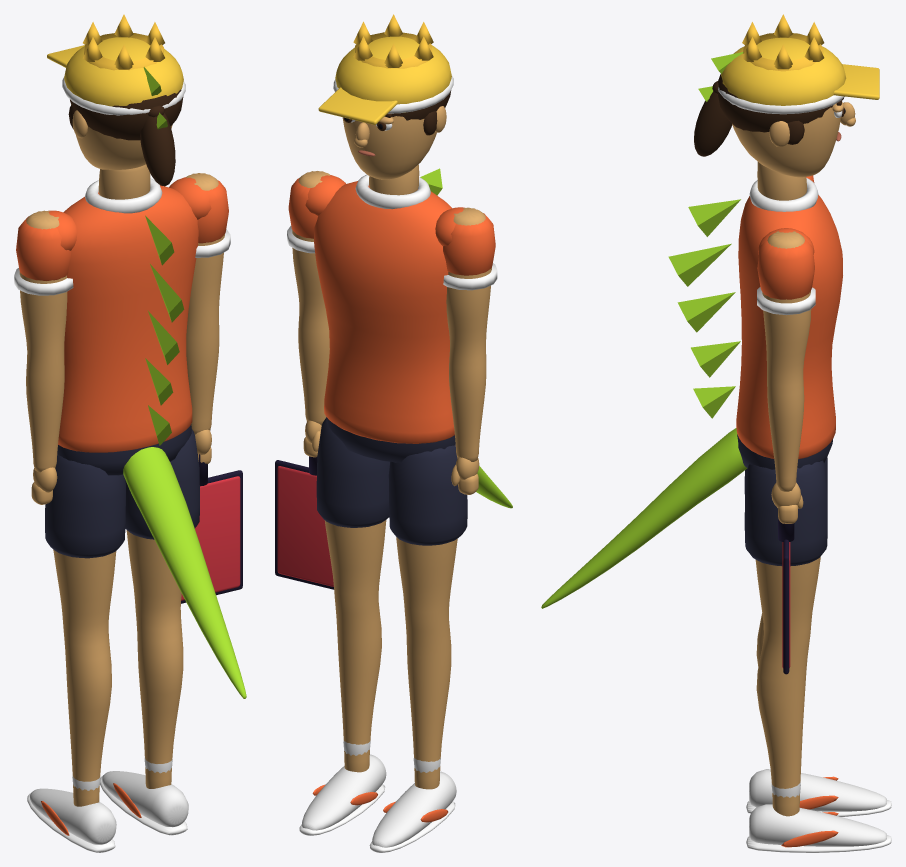
File: player.glb
3 views of the same model, side by side, from view 1: azimuth 30°, elevation 25°; view 2: azimuth 150°, elevation 25°; view 3: azimuth 270°, elevation 25° (orthographic). The views are drawn at different scales.
Visible parts, largest first — view 1: ol_torso, ol_leg_L, ol_leg_R, ol_tail, ol_arm_L, ol_shortleg_L, ol_arm_R, ol_cap, ol_paddle_face, ol_shoe_L, ol_shoe_R, ol_sleeve_L (+22 smaller); view 2: ol_torso, ol_leg_R, ol_leg_L, ol_arm_L, ol_shortleg_L, ol_shortleg_R, ol_paddle_face, ol_cap, ol_arm_R, ol_head, ol_shoe_L, ol_shoe_R (+15 smaller); view 3: ol_torso, ol_leg_R, ol_arm_R, ol_tail, ol_shortleg_R, ol_cap, ol_shoe_R, ol_head, ol_shoe_L, ol_sleeve_R, ol_hair, ol_ponytail (+14 smaller).
Part boxes in pixels (<box>): ol_torso: <box>58,185,198,452</box>; ol_leg_L: <box>53,549,116,806</box>; ol_leg_R: <box>126,530,183,788</box>; ol_tail: <box>123,447,246,698</box>; ol_arm_L: <box>19,210,67,472</box>; ol_shortleg_L: <box>45,454,125,558</box>; ol_arm_R: <box>186,173,224,434</box>; ol_cap: <box>64,37,183,106</box>; ol_paddle_face: <box>181,476,240,600</box>; ol_shoe_L: <box>30,788,116,844</box>; ol_shoe_R: <box>102,771,188,827</box>; ol_sleeve_L: <box>16,216,70,280</box>; ol_torso: <box>314,181,454,443</box>; ol_leg_R: <box>324,520,386,772</box>; ol_leg_L: <box>396,537,457,789</box>; ol_arm_L: <box>446,207,491,461</box>; ol_shortleg_L: <box>388,444,467,545</box>; ol_shortleg_R: <box>316,418,389,527</box>; ol_paddle_face: <box>277,466,333,586</box>; ol_cap: <box>335,36,451,112</box>; ol_arm_R: <box>292,171,330,425</box>; ol_head: <box>342,116,436,179</box>; ol_shoe_L: <box>372,771,456,847</box>; ol_shoe_R: <box>302,754,386,830</box>; ol_torso: <box>736,195,842,458</box>; ol_leg_R: <box>755,557,820,816</box>; ol_arm_R: <box>762,231,811,491</box>; ol_tail: <box>541,428,747,608</box>; ol_shortleg_R: <box>744,460,827,566</box>; ol_cap: <box>721,37,846,105</box>; ol_shoe_R: <box>749,804,886,846</box>; ol_head: <box>732,105,840,177</box>; ol_shoe_L: <box>749,769,886,811</box>; ol_sleeve_R: <box>757,239,814,299</box>; ol_hair: <box>718,74,833,132</box>; ol_ponytail: <box>694,91,732,156</box>.
Size of the model in its own units: 1.74 by 5.95 by 2.36.
